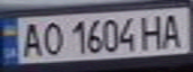0: (103, 16, 121, 54)
1: (66, 17, 87, 54)
4: (118, 15, 139, 52)
6: (84, 17, 106, 54)
A: (157, 10, 187, 49), (18, 19, 45, 57)
H: (139, 11, 169, 51)
O: (39, 19, 66, 56)
